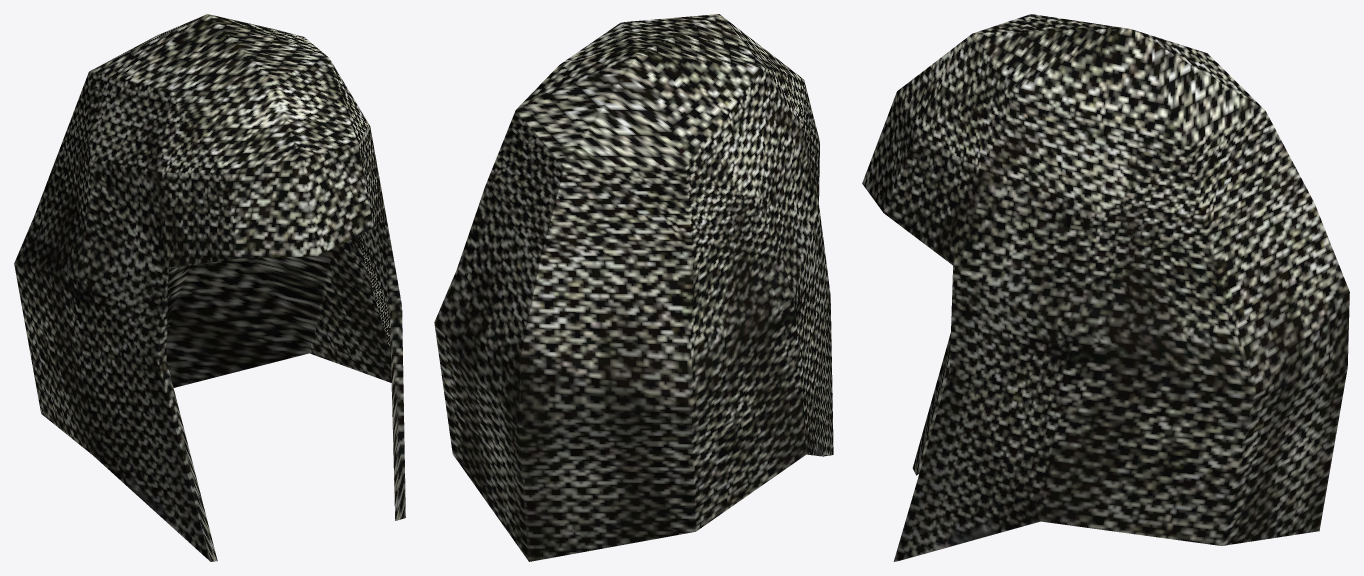
File: Armor_PAL_M.glb
3 views of the same model, side by side, from view 1: azimuth 30°, elevation 25°; view 2: azimuth 150°, elevation 25°; view 3: azimuth 270°, elevation 25° (orthographic). The views are drawn at different scales.
Parts seen in each view (by area): view 1: Armor_PAL_Mzm_Helm; view 2: Armor_PAL_Mzm_Helm; view 3: Armor_PAL_Mzm_Helm.
Part boxes in pixels (x1,y1,x2,y2): Armor_PAL_Mzm_Helm: [14, 14, 405, 561]; Armor_PAL_Mzm_Helm: [434, 14, 833, 561]; Armor_PAL_Mzm_Helm: [862, 14, 1349, 561].
Size of the model in its own units: 0.2357 by 0.3454 by 0.3093.
1 material, 1 textured.
